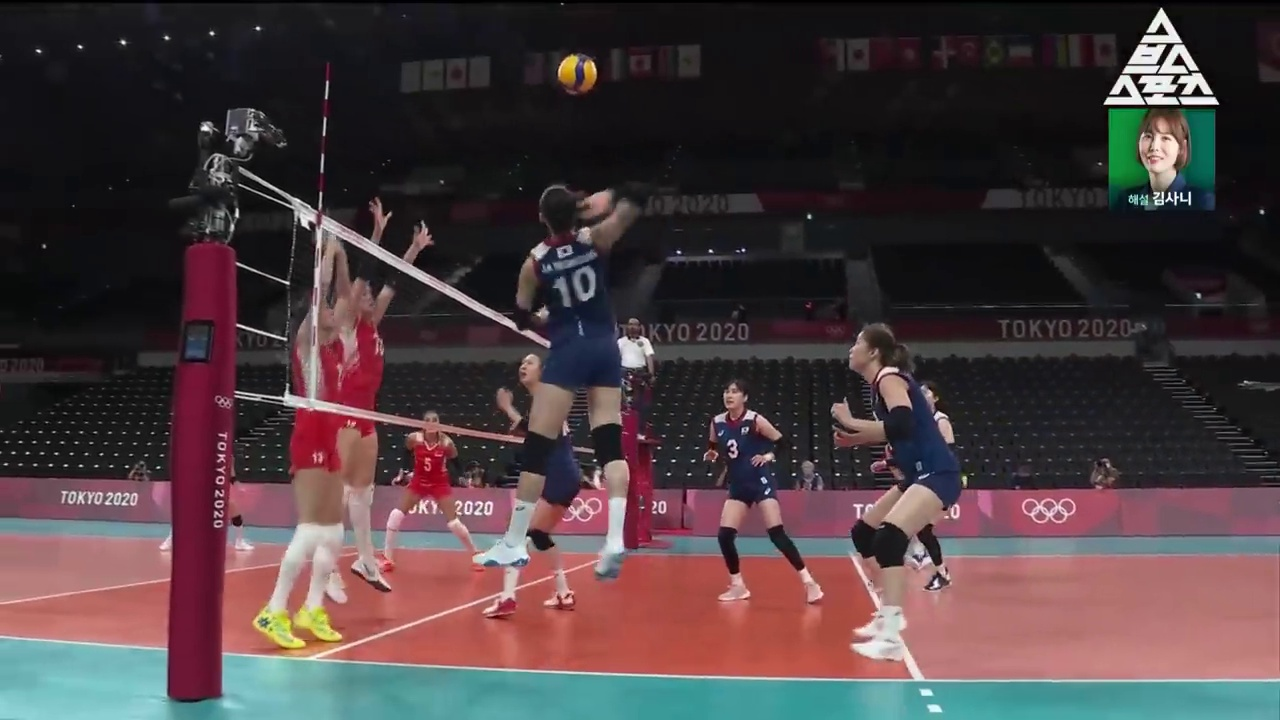ball: (559, 56, 597, 94)
player: (473, 185, 640, 580), (832, 323, 960, 662), (705, 381, 823, 604), (483, 354, 576, 617)
player 1: (319, 196, 433, 604), (255, 226, 349, 647), (378, 413, 486, 571)
referee: (617, 318, 655, 440)
